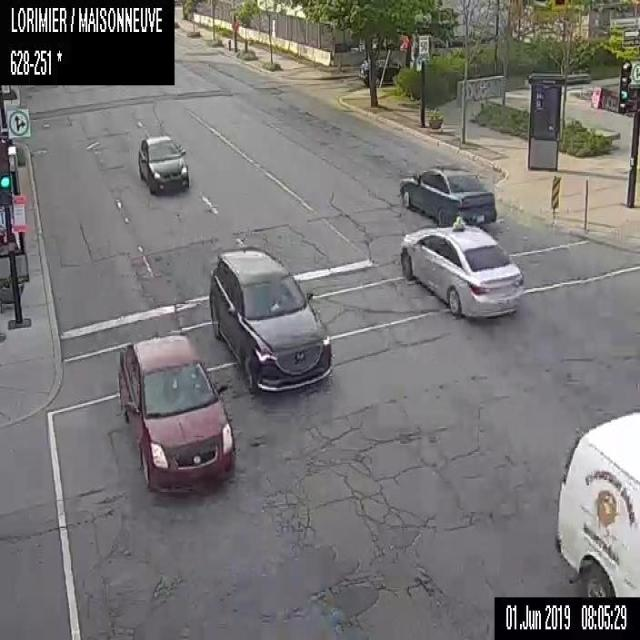vehicle: (117, 331, 235, 500), (207, 245, 332, 395), (555, 408, 639, 596), (399, 216, 525, 321), (398, 166, 496, 225), (136, 132, 188, 193), (358, 58, 402, 86)
